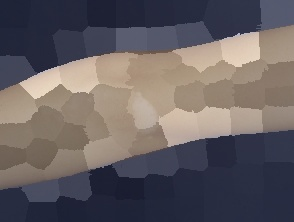vitiligo: (110, 83, 174, 143)
